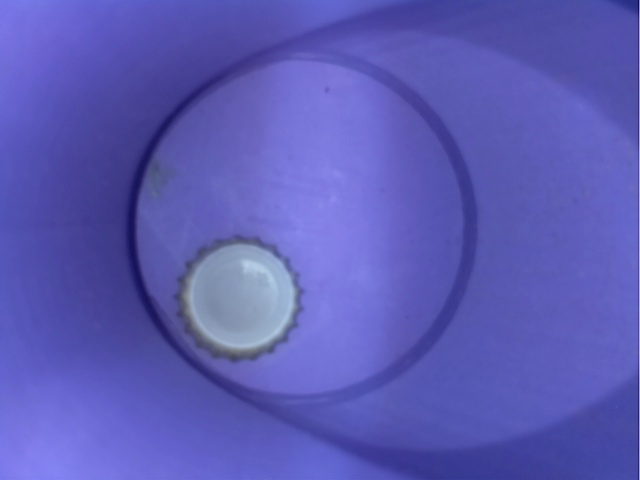capsule: (167, 226, 312, 362)
